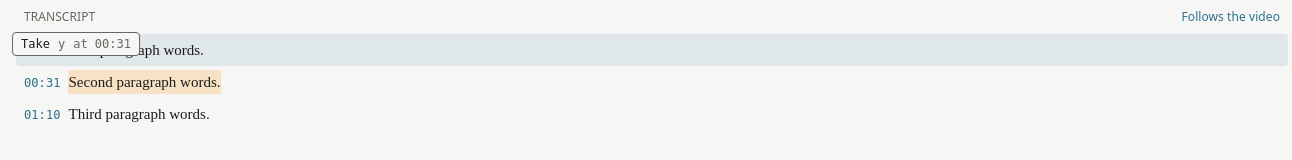
Scenario: the transcript's take › #791 A8 a click on the take button writes the words with their time link and shows the toast with Undo
Click the button with aria-label "Take the passage". click: [76, 44]
box: [12,32,140,56]
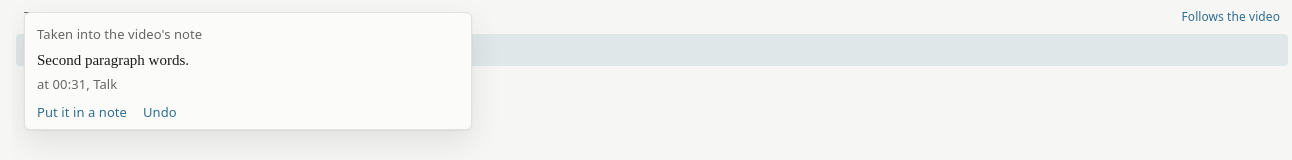
Now the text "Taken into the video's note" is shown, box [37,25,202,43]
Now the button "Undo" is shown, box [143,102,177,122]
